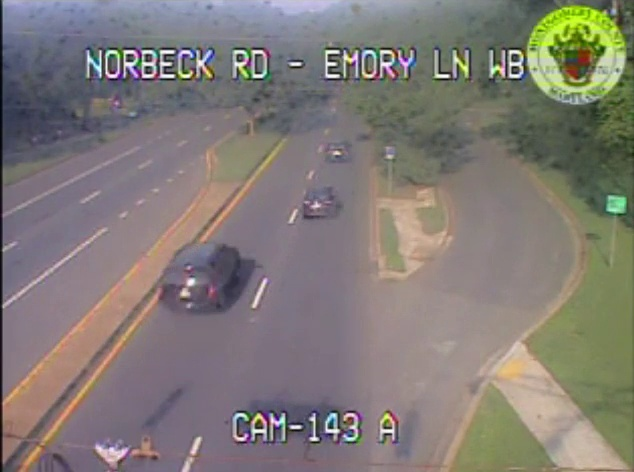car: (161, 241, 240, 313), (302, 187, 335, 216)
